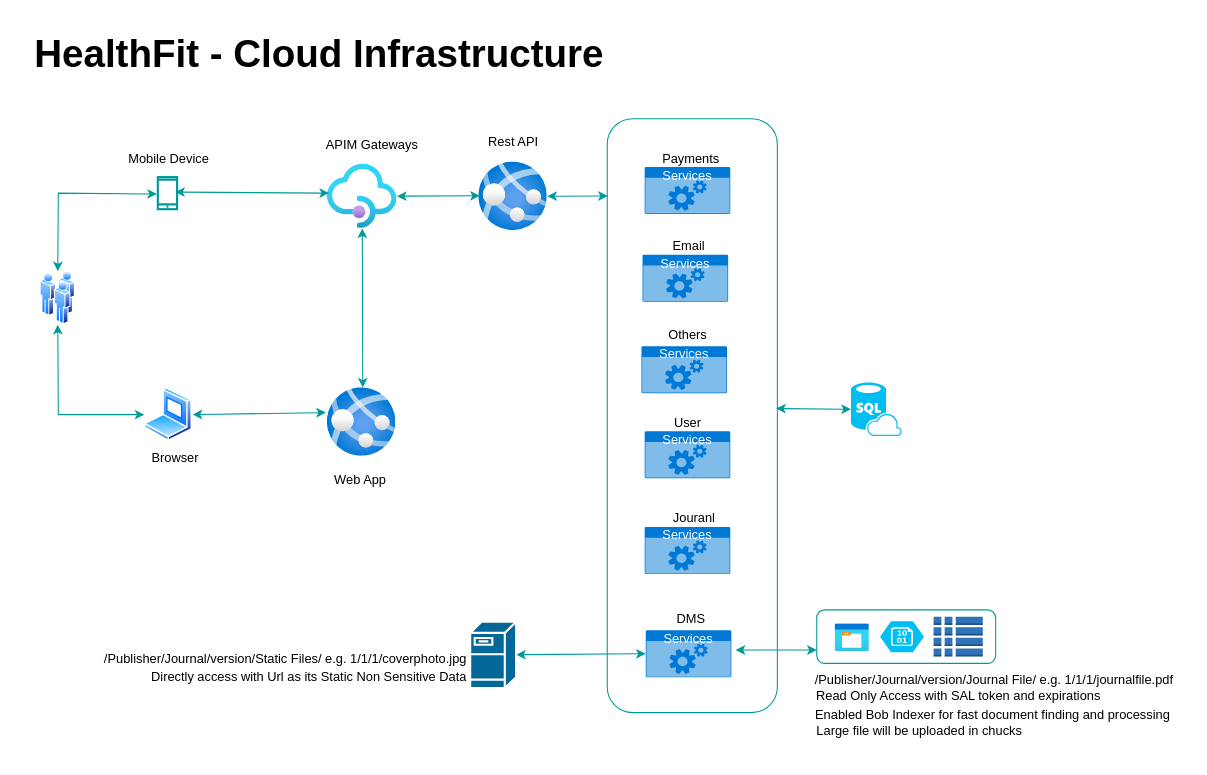
This 1207x775 diagram has some shape labels left out. The centre of each missing label's shape, as x and y in pixels:
Azure Storage - Container - blob: the point at 906,593
File Storage Server 1X: the point at 399,642
